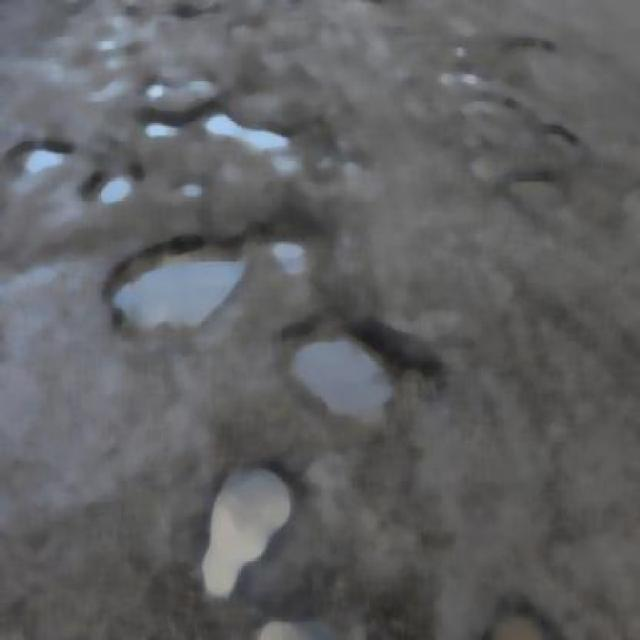Pothole: (110, 217, 316, 308), (278, 319, 408, 427), (196, 439, 287, 578), (142, 83, 292, 157), (16, 121, 69, 182), (93, 155, 141, 213)
